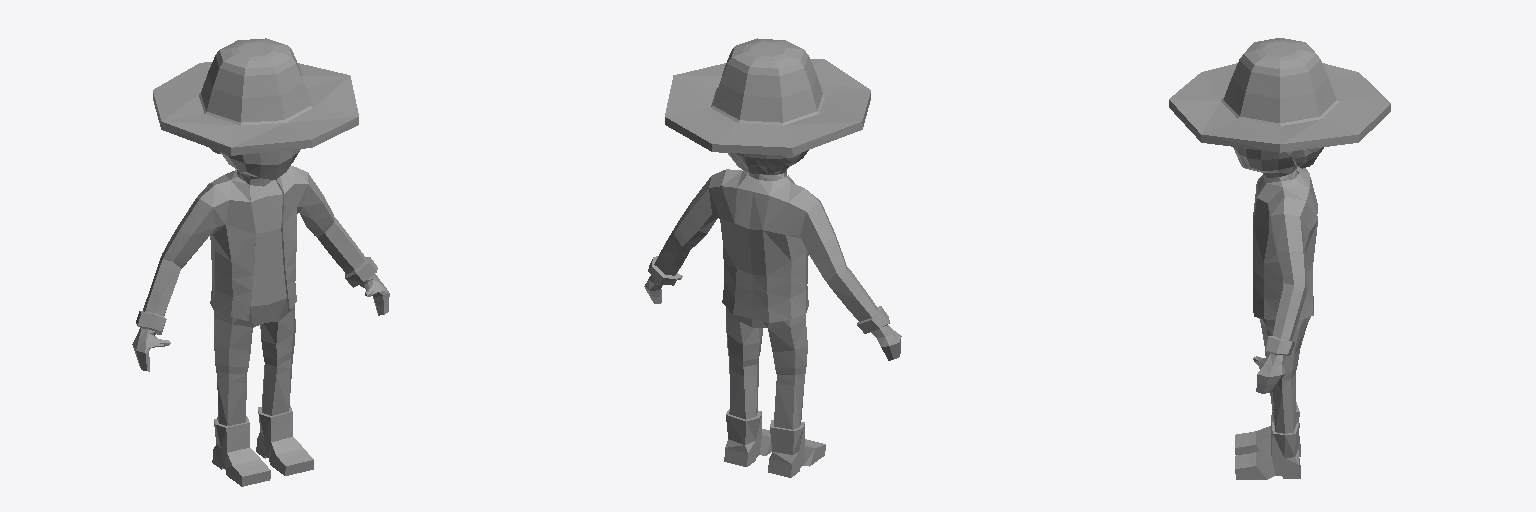
The model's file is Dave.obj.
The picture shows the model from 3 angles: view 1: azimuth 30°, elevation 25°; view 2: azimuth 150°, elevation 25°; view 3: azimuth 270°, elevation 25°; orthographic projection.
Visible parts, largest first — view 1: Character_Cube; view 2: Character_Cube; view 3: Character_Cube.
Part boxes in pixels (bbox=[...]): Character_Cube: bbox=[132, 38, 389, 486]; Character_Cube: bbox=[644, 38, 901, 477]; Character_Cube: bbox=[1169, 38, 1390, 479].
Bounding box in the file's own units: 2.72 × 4.27 × 2.09.